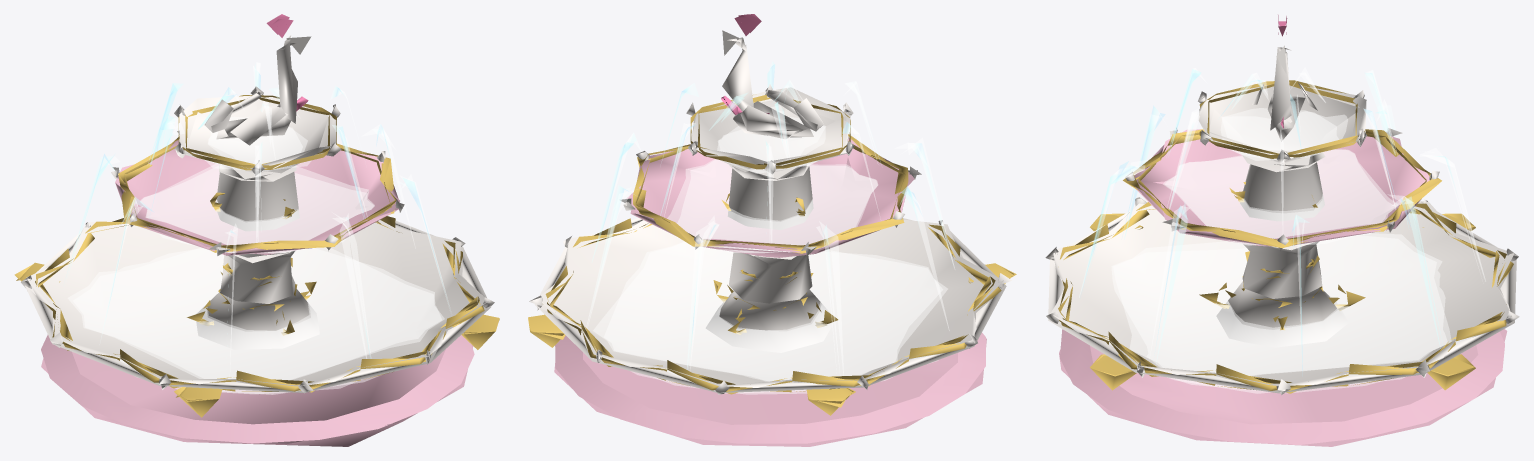
File: lod_fountain_center.glb
3 renders of one model, left to right at view 1: azimuth 30°, elevation 25°; view 2: azimuth 150°, elevation 25°; view 3: azimuth 270°, elevation 25°, orthographic. The views are drawn at different scales.
Visible parts, largest first — view 1: fountain_center; view 2: fountain_center; view 3: fountain_center.
Boxes of the visible parts, x1,y1,x2,y2 form: fountain_center: [14, 14, 499, 446]; fountain_center: [528, 14, 1016, 446]; fountain_center: [1045, 15, 1519, 446].
Size of the model in its own units: 5.53 by 4.39 by 5.29.
